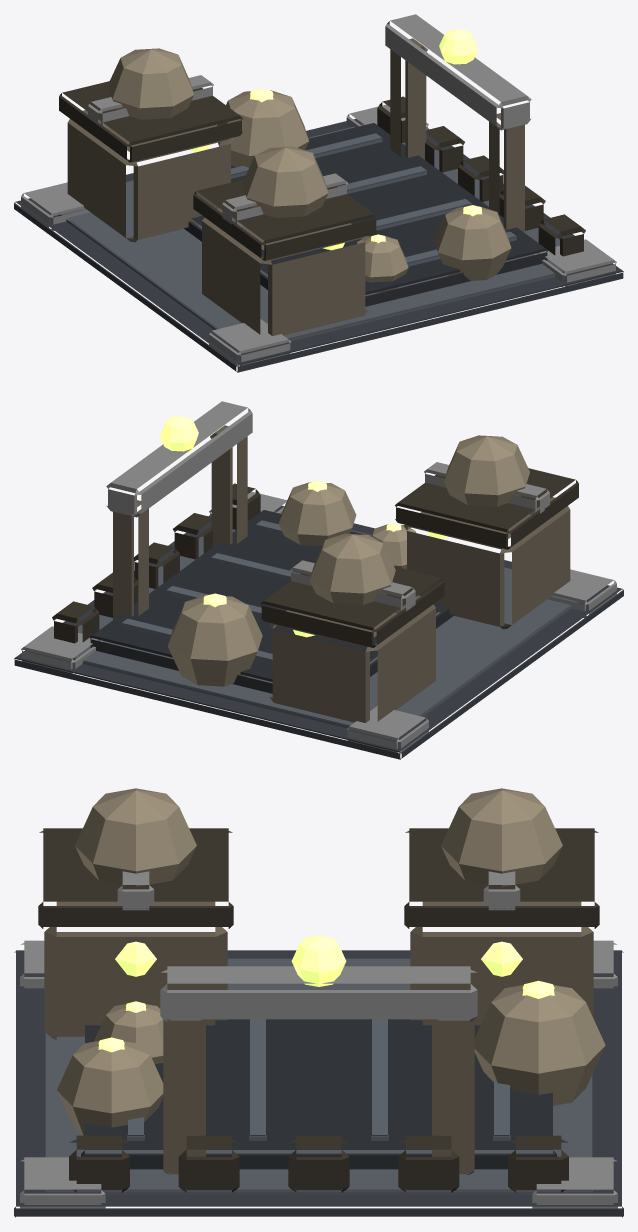
Rendered from bl_brood.glb.
The picture shows the model from 3 angles, top to bottom: view 1: azimuth 30°, elevation 25°; view 2: azimuth 150°, elevation 25°; view 3: azimuth 270°, elevation 25°; orthographic projection. The views are drawn at different scales.
Visible parts, largest first — view 1: body; view 2: body; view 3: body.
Boxes of the visible parts, bbox=[...] form: body: bbox=[14, 14, 623, 372]; body: bbox=[14, 401, 623, 759]; body: bbox=[14, 788, 623, 1217].
Size of the model in its own units: 80 by 35.76 by 80.
